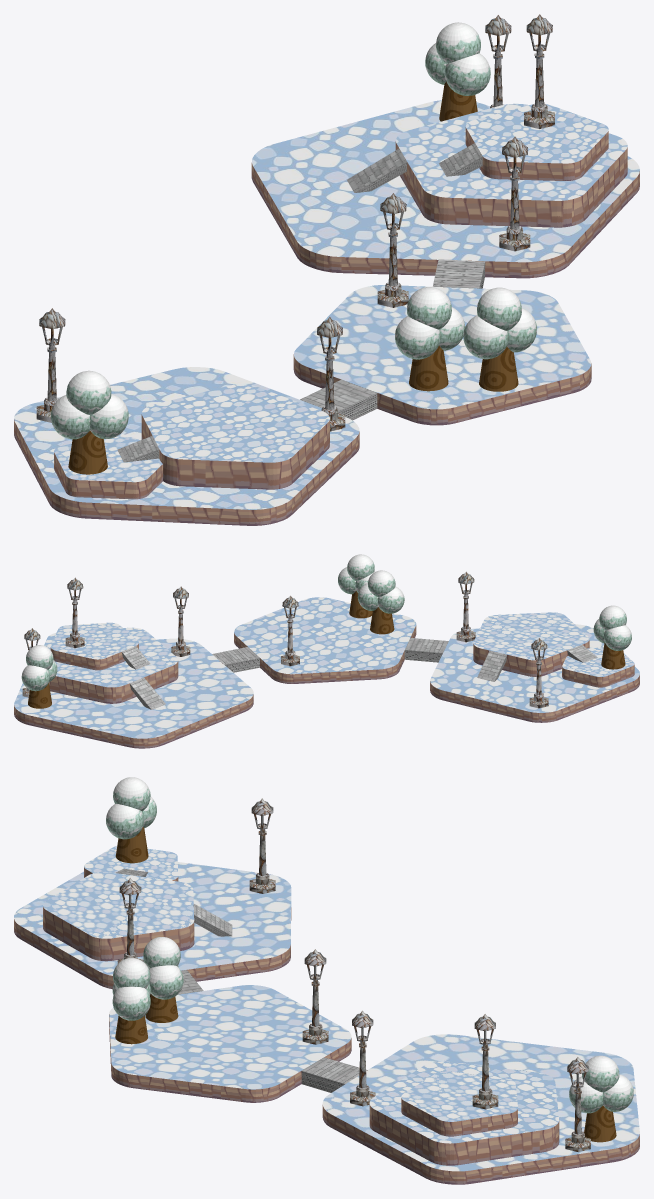
Rendered from landscape1.obj.
The picture shows the model from 3 angles, top to bottom: view 1: azimuth 30°, elevation 25°; view 2: azimuth 150°, elevation 25°; view 3: azimuth 270°, elevation 25°; orthographic projection. The views are drawn at different scales.
Parts seen in each view (by area): view 1: Cylinder.003, Cylinder, Cylinder.002, Cylinder.001, Cylinder.005, Cylinder.006, Cylinder.004, vsn_mesh_0__mesh_0_.005, vsn_mesh_0__mesh_0_.001, vsn_mesh_0__mesh_0_.004, Sphere.011, Sphere.005 (+19 smaller); view 2: Cylinder, Cylinder.003, Cylinder.002, Cylinder.001, Cylinder.005, Cylinder.006, Cylinder.004, vsn_mesh_0__mesh_0_.004, vsn_mesh_0__mesh_0_.001, vsn_mesh_0__mesh_0_.003, vsn_mesh_0__mesh_0_.002, vsn_mesh_0__mesh_0_.005 (+17 smaller); view 3: Cylinder, Cylinder.003, Cylinder.002, Cylinder.001, Cylinder.005, Cylinder.006, Cylinder.004, vsn_mesh_0__mesh_0_.001, vsn_mesh_0__mesh_0_.002, vsn_mesh_0__mesh_0_.004, vsn_mesh_0__mesh_0_.006, vsn_mesh_0__mesh_0_.005 (+15 smaller).
Boxes of the visible parts, x1=… form: Cylinder.003: x1=251, y1=100, x2=639, y2=278; Cylinder: x1=293, y1=259, x2=591, y2=425; Cylinder.002: x1=14, y1=367, x2=359, y2=525; Cylinder.001: x1=141, y1=384, x2=329, y2=489; Cylinder.005: x1=395, y1=103, x2=627, y2=227; Cylinder.006: x1=465, y1=104, x2=608, y2=180; Cylinder.004: x1=54, y1=433, x2=162, y2=499; vsn_mesh_0__mesh_0_.005: x1=499, y1=136, x2=530, y2=251; vsn_mesh_0__mesh_0_.001: x1=377, y1=193, x2=408, y2=307; vsn_mesh_0__mesh_0_.004: x1=524, y1=14, x2=554, y2=128; Sphere.011: x1=66, y1=370, x2=111, y2=414; Sphere.005: x1=445, y1=53, x2=490, y2=95; Cylinder: x1=212, y1=597, x2=448, y2=683; Cylinder.003: x1=14, y1=638, x2=253, y2=748; Cylinder.002: x1=430, y1=624, x2=639, y2=722; Cylinder.001: x1=473, y1=612, x2=589, y2=676; Cylinder.005: x1=44, y1=627, x2=178, y2=703; Cylinder.006: x1=50, y1=622, x2=138, y2=670; Cylinder.004: x1=562, y1=647, x2=634, y2=687; vsn_mesh_0__mesh_0_.004: x1=65, y1=577, x2=84, y2=648; vsn_mesh_0__mesh_0_.001: x1=281, y1=595, x2=299, y2=666; vsn_mesh_0__mesh_0_.003: x1=456, y1=571, x2=475, y2=642; vsn_mesh_0__mesh_0_.002: x1=529, y1=638, x2=548, y2=708; vsn_mesh_0__mesh_0_.005: x1=171, y1=586, x2=190, y2=656; Cylinder: x1=109, y1=970, x2=367, y2=1102; Cylinder.003: x1=322, y1=1034, x2=639, y2=1184; Cylinder.002: x1=14, y1=862, x2=291, y2=989; Cylinder.001: x1=43, y1=872, x2=194, y2=961; Cylinder.005: x1=369, y1=1061, x2=559, y2=1165; Cylinder.006: x1=401, y1=1071, x2=517, y2=1136; Cylinder.004: x1=84, y1=846, x2=178, y2=881; vsn_mesh_0__mesh_0_.001: x1=302, y1=949, x2=328, y2=1044; vsn_mesh_0__mesh_0_.002: x1=249, y1=798, x2=275, y2=893; vsn_mesh_0__mesh_0_.004: x1=472, y1=1014, x2=498, y2=1109; vsn_mesh_0__mesh_0_.006: x1=565, y1=1057, x2=590, y2=1151; vsn_mesh_0__mesh_0_.005: x1=350, y1=1010, x2=375, y2=1106.
Size of what is drawn, in the model's own units: 49.42 by 10.25 by 41.47.
Materials: 21 (21 with a texture image).
